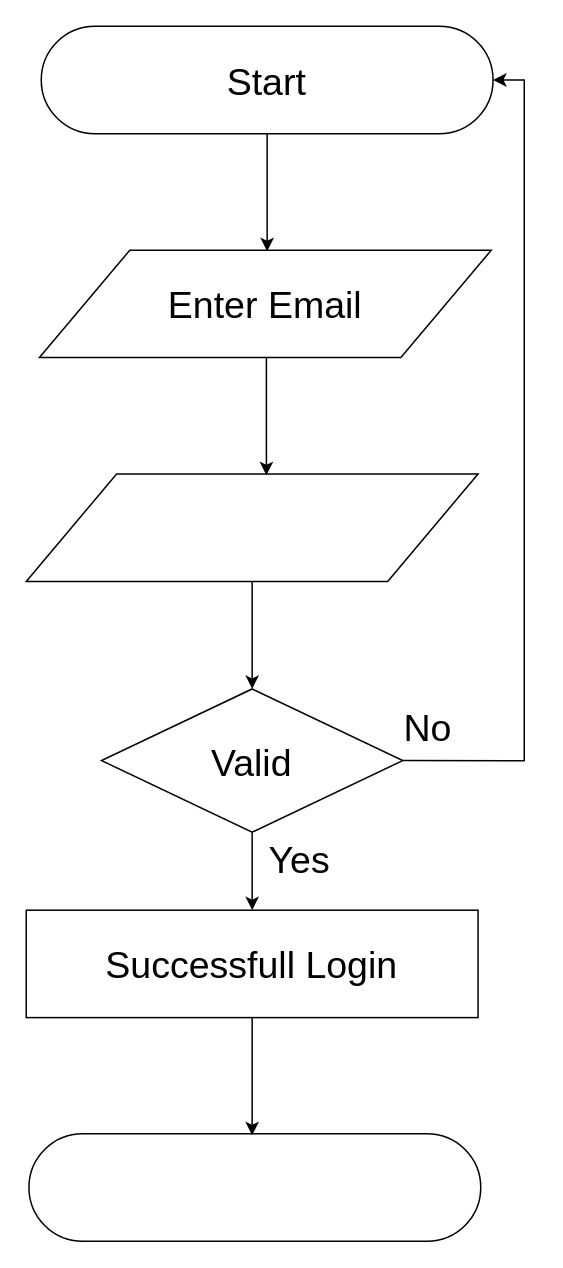
Some shapes in this 563 by 1268 pixel diagram are drawn without their labels. The shapes that lost their labels are listed below. From the top down, each one's box as (x1, y1, x2, y2) in pixels, then its label:
(25, 472, 478, 581): Enter Password
(27, 1132, 481, 1241): End
